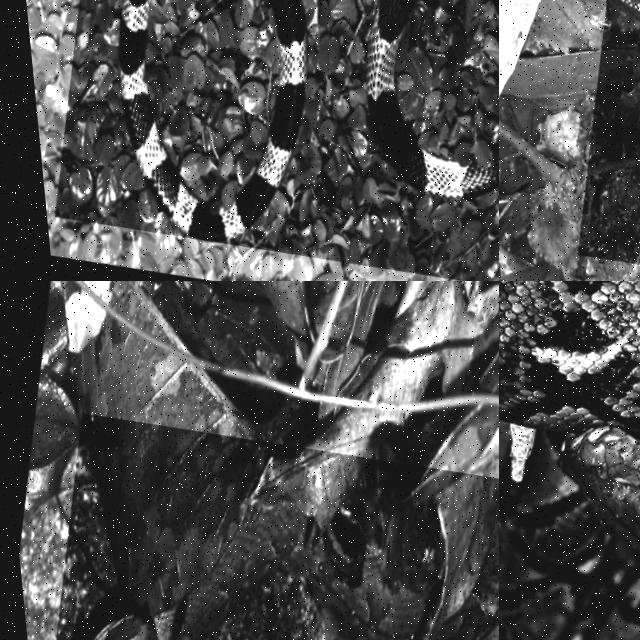Bungarus candidus: (120, 0, 308, 240)
Calloselasma rhodostoma: (180, 504, 428, 639)
Malayopython reticulatus: (499, 424, 639, 639)
Ovophis monticola: (634, 37, 639, 97)
